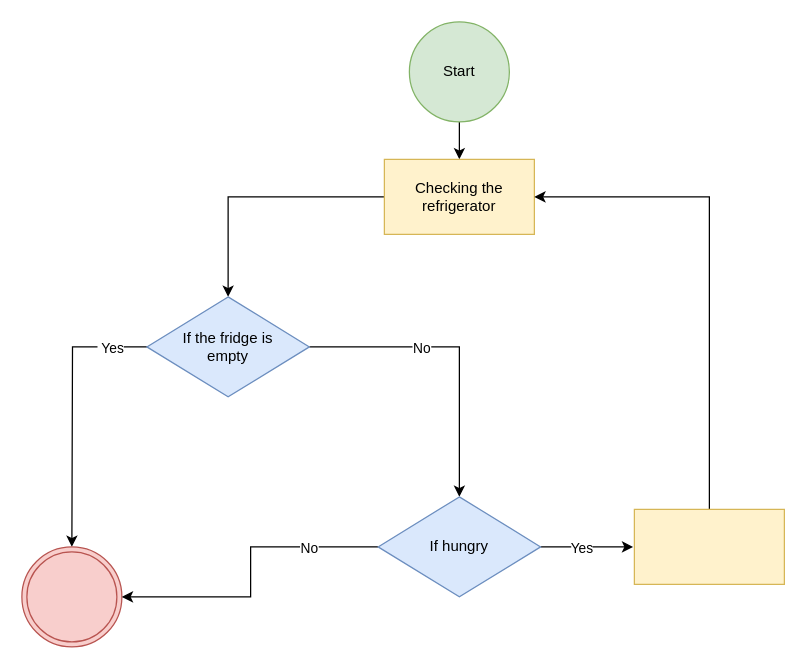
This 806x669 diagram has some shape labels left out. Each missing label, with the box of its shape:
Eating food from the fridge: (633, 508, 784, 584)
Finish: (21, 546, 122, 647)
